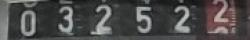digits: (93, 4, 113, 34), (172, 4, 190, 32), (57, 4, 73, 32), (135, 6, 152, 32), (19, 10, 36, 36), (213, 0, 229, 22)
